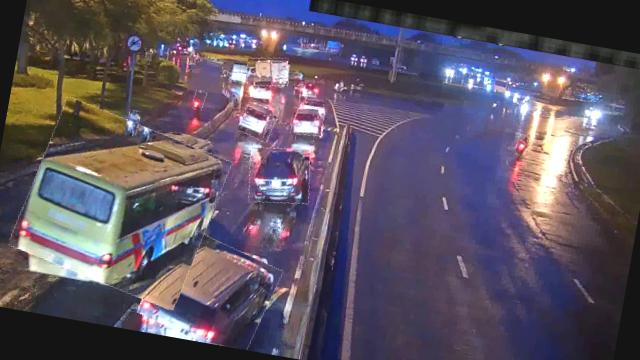Bike: (124, 109, 140, 136), (514, 133, 530, 156), (192, 89, 206, 111)
Bus: (10, 100, 230, 308)
Car: (138, 225, 282, 352), (244, 141, 315, 209), (238, 99, 279, 142), (289, 105, 325, 137)
Truck: (244, 53, 292, 90)
